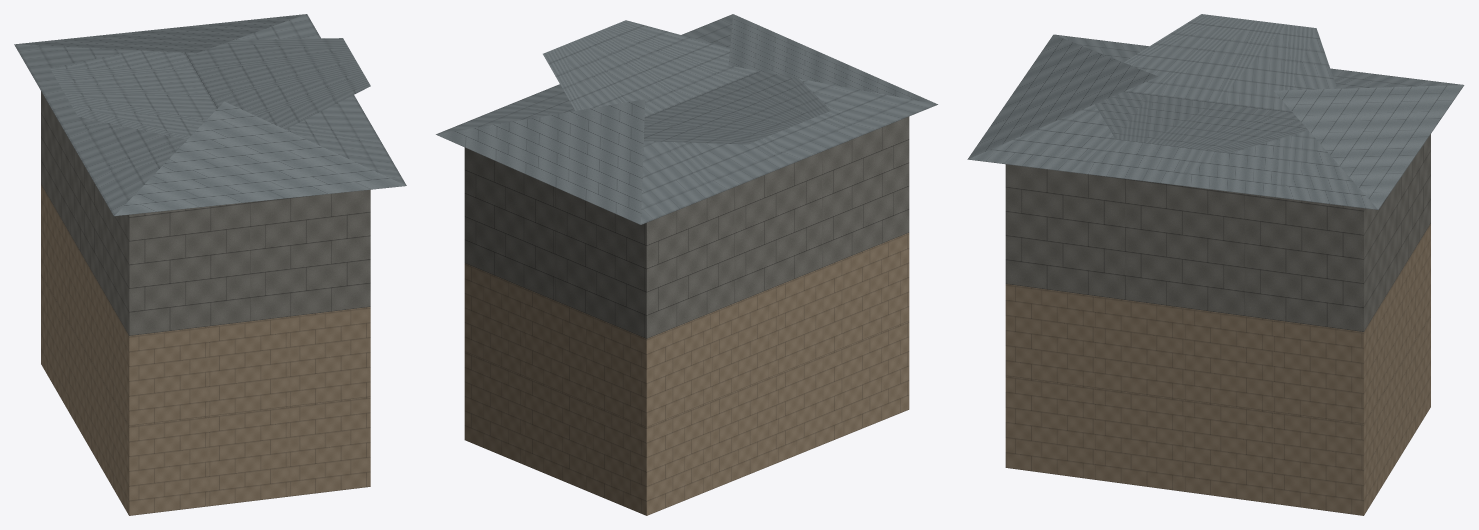
File: bld_c35_-27_447.gltf
3 views of the same model, side by side, from view 1: azimuth 30°, elevation 25°; view 2: azimuth 150°, elevation 25°; view 3: azimuth 270°, elevation 25° (orthographic). The views are drawn at different scales.
Visible parts, largest first — view 1: bld_c35_-27_447; view 2: bld_c35_-27_447; view 3: bld_c35_-27_447.
Part boxes in pixels (<box>): bld_c35_-27_447: <box>14,14,406,515</box>; bld_c35_-27_447: <box>436,14,937,515</box>; bld_c35_-27_447: <box>967,14,1464,515</box>.
Size of the model in its own units: 9.74 by 9.2 by 11.65.
Materials: 3 (3 with a texture image).
